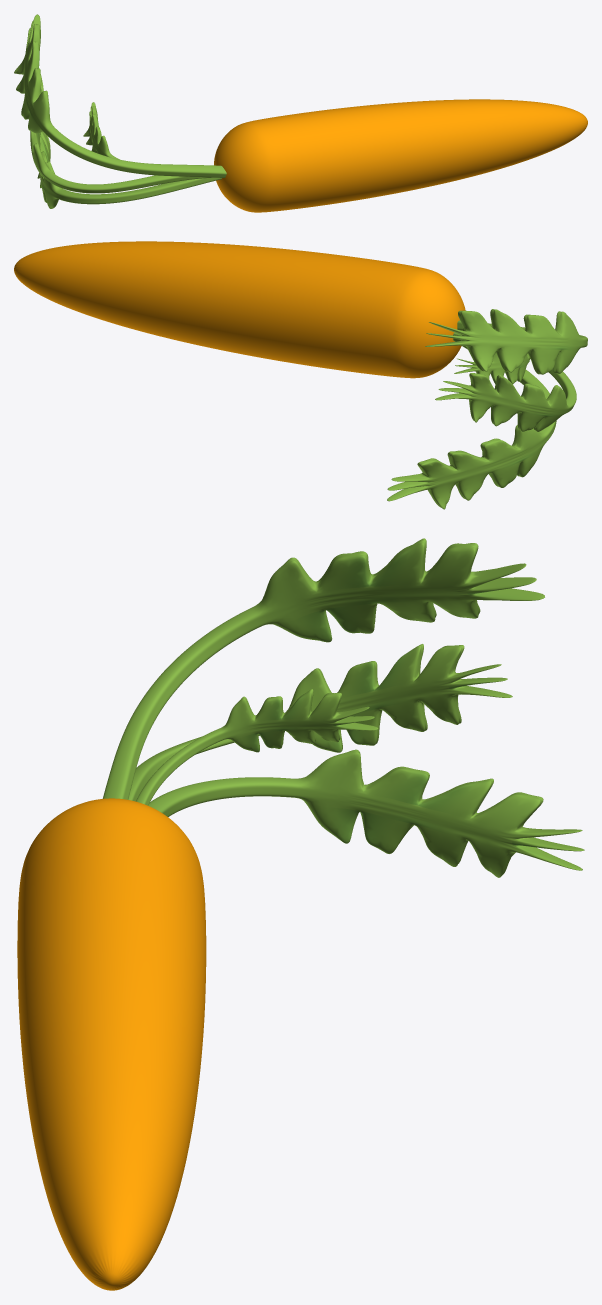
The model's file is hlb.fbx.
3 renders of one model, top to bottom at view 1: azimuth 30°, elevation 25°; view 2: azimuth 150°, elevation 25°; view 3: azimuth 270°, elevation 25°, orthographic. The views are drawn at different scales.
Parts seen in each view (by area): view 1: polySurface8; view 2: polySurface8; view 3: polySurface8.
Part boxes in pixels (x1,y1,x2,y2): polySurface8: (14, 14, 587, 212); polySurface8: (14, 241, 587, 509); polySurface8: (17, 538, 584, 1290).
Bounding box in the file's own units: 9.28 × 2.9 × 4.49.
